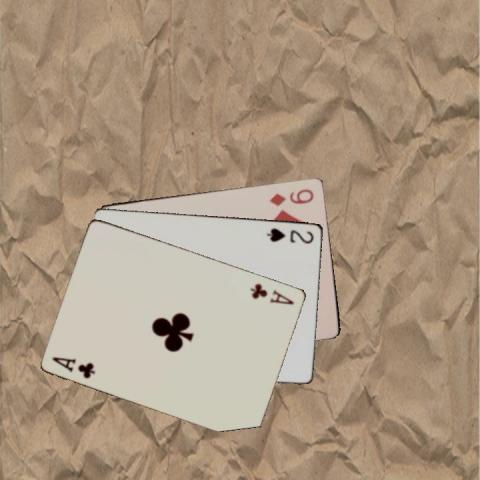2s: (264, 224, 315, 244)
9d: (267, 186, 315, 207)
Ac: (50, 353, 98, 380), (247, 280, 296, 306)
